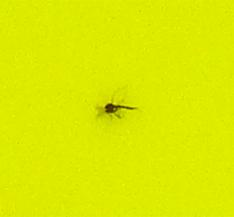Nematocera: (100, 100, 134, 117)
